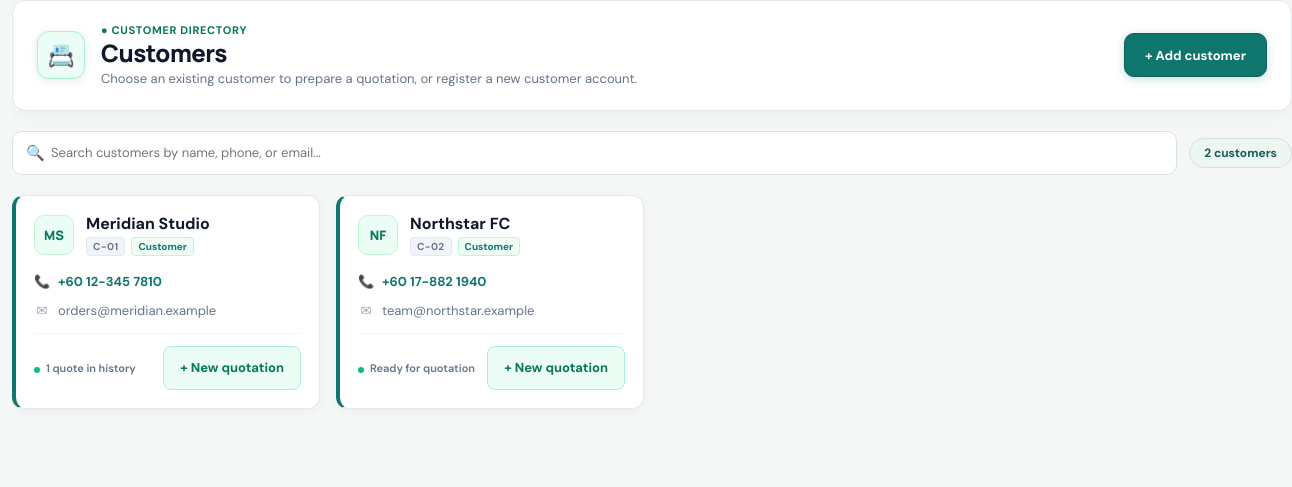
ContactsView customer directory › shows no-results empty state when search query matches nothing
Type "Nonexistent Customer" into the search field labelled "Search customers by name, phone, or email..." at (595,153), box [12,131,1177,175]
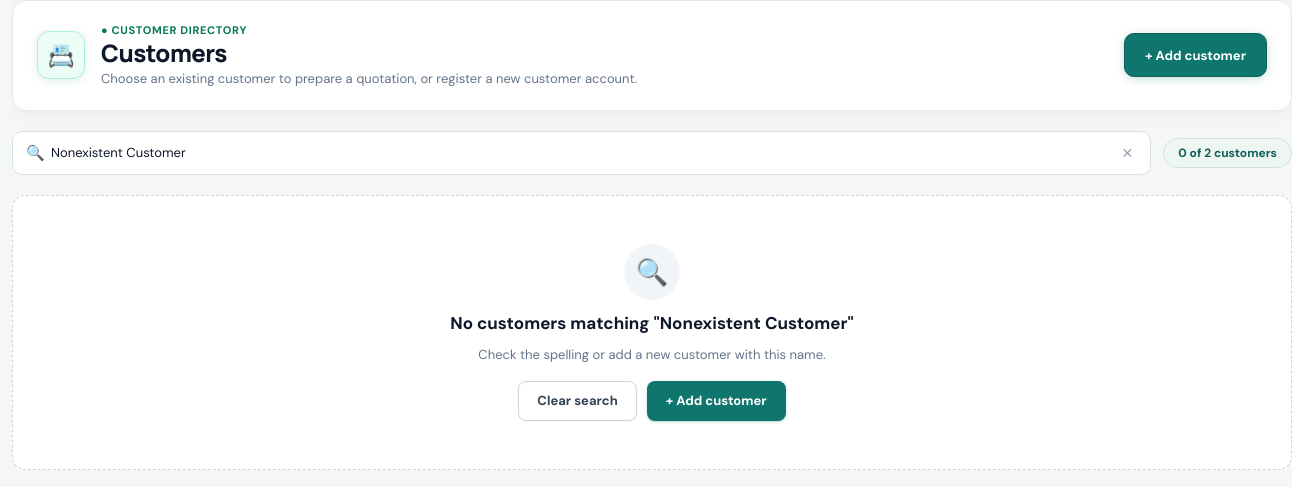
Now the heading "No customers matching \"Nonexistent Customer\"" is shown, box [450,312,854,334]
Now the heading "Meridian Studio" is gone
# Clear search button in empty state restores list
Click the button "Clear search" at (578,401), box [518,381,637,421]
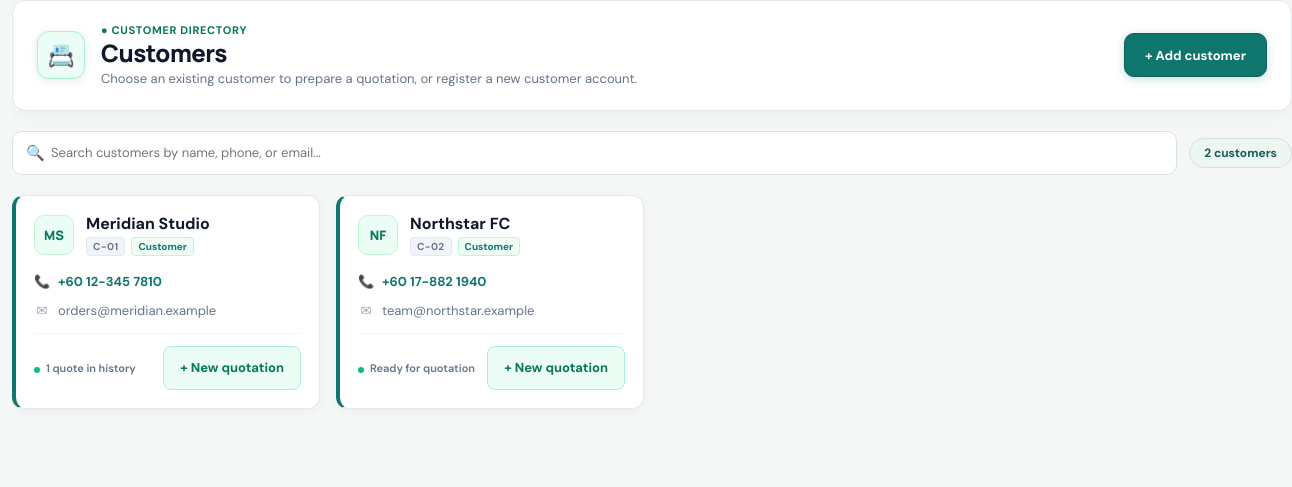
Now the heading "Meridian Studio" is shown, box [86,214,210,235]
